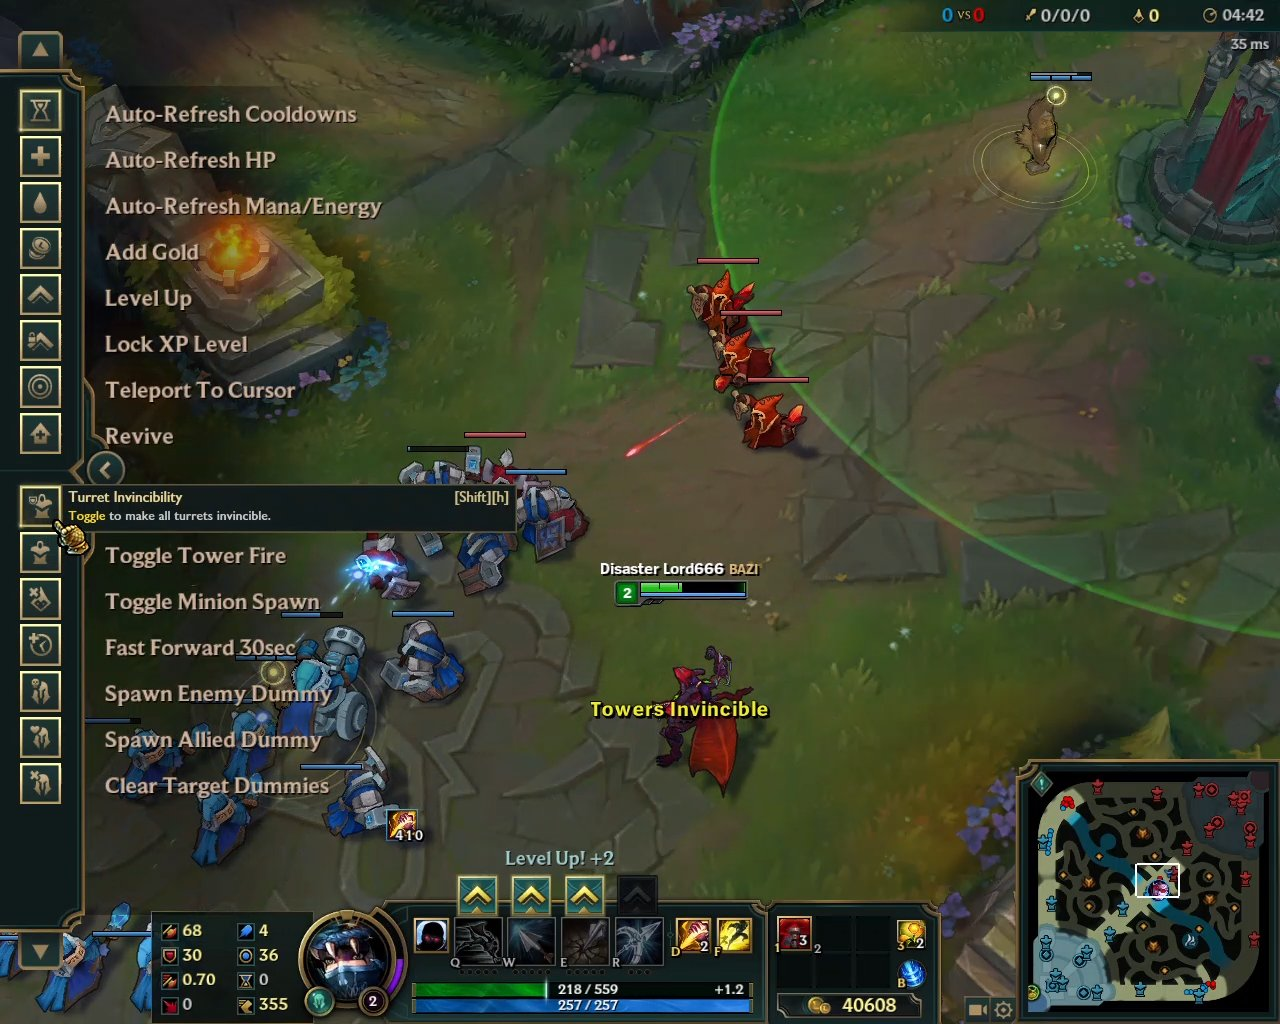EnemyMinion: (702, 308, 784, 396), (729, 376, 811, 460), (686, 255, 762, 338)
